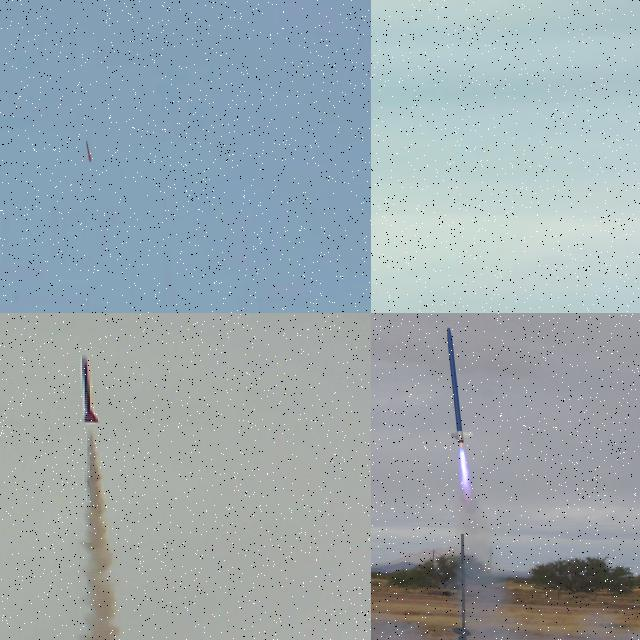Rocket: (446, 324, 474, 444), (80, 353, 100, 424), (86, 140, 92, 162)
